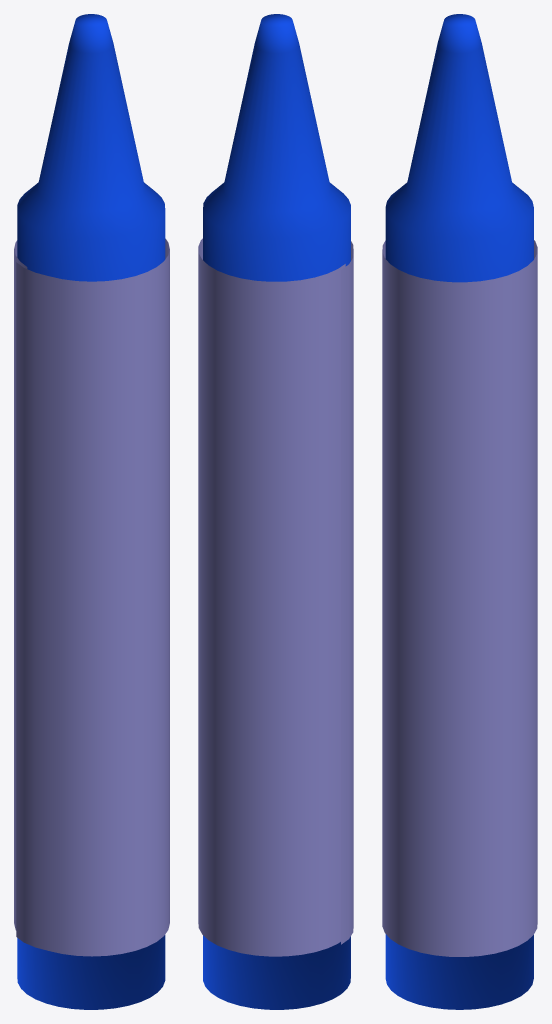
3 renders of one model, left to right at view 1: azimuth 30°, elevation 25°; view 2: azimuth 150°, elevation 25°; view 3: azimuth 270°, elevation 25°, orthographic.
Parts seen in each view (by area): view 1: Blue_Wrapper; view 2: Blue_Wrapper; view 3: Blue_Wrapper.
Boxes of the visible parts, x1,y1,x2,y2 form: Blue_Wrapper: [14, 14, 169, 1009]; Blue_Wrapper: [198, 14, 353, 1009]; Blue_Wrapper: [382, 14, 537, 1009].
Bounding box in the file's own units: 0.0752 × 0.5 × 0.0735.
